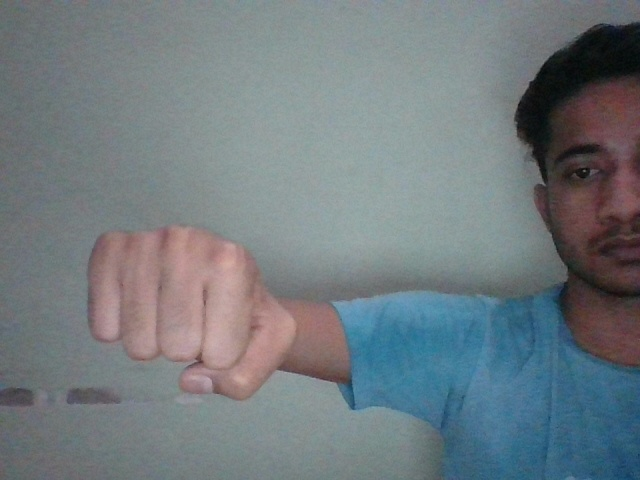yes: (85, 226, 297, 405)
